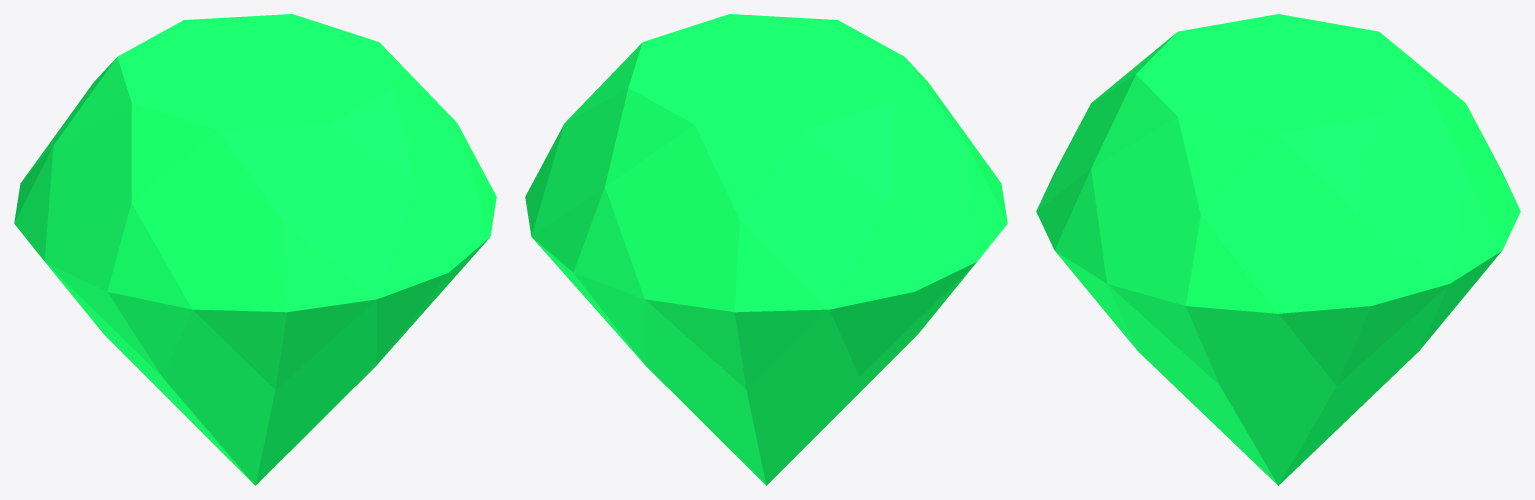
The model's file is EV_ChaosEmerald.fbx.
3 views of the same model, side by side, from view 1: azimuth 30°, elevation 25°; view 2: azimuth 150°, elevation 25°; view 3: azimuth 270°, elevation 25° (orthographic).
Visible parts, largest first — view 1: EV_ChaosEmerald; view 2: EV_ChaosEmerald; view 3: EV_ChaosEmerald.
Part boxes in pixels (x1,y1,x2,y2): EV_ChaosEmerald: (14, 14, 496, 485); EV_ChaosEmerald: (525, 14, 1007, 485); EV_ChaosEmerald: (1036, 14, 1520, 485).
Size of the model in its own units: 1.6 by 1.5 by 1.6.
